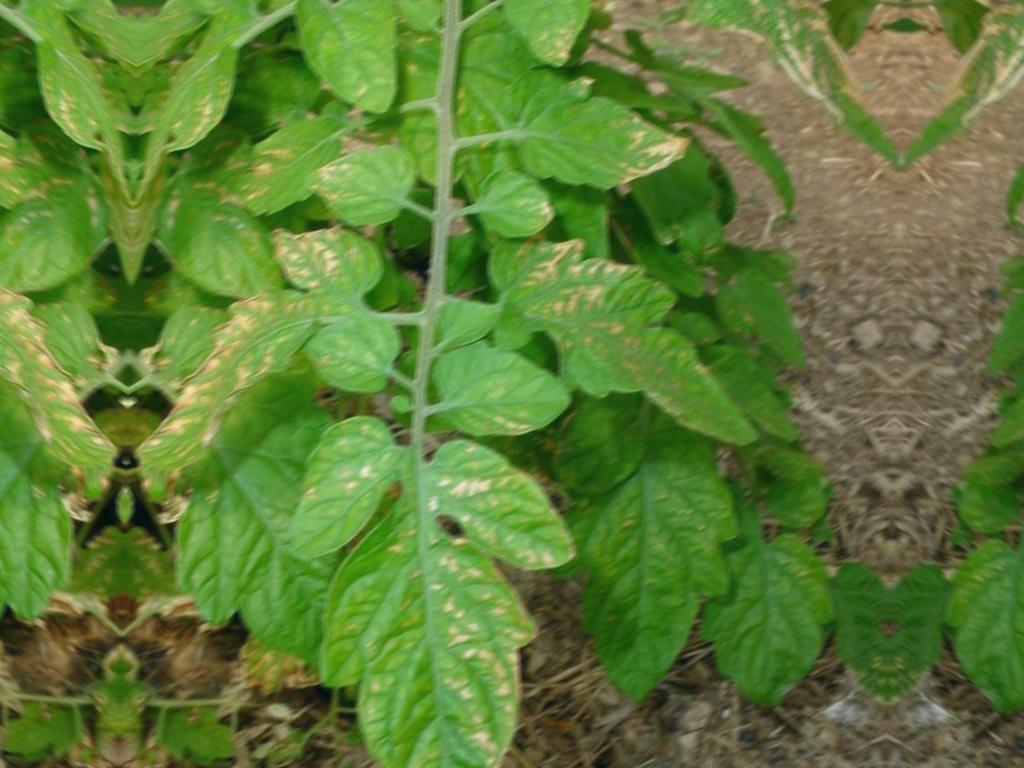Tomato leaf bacterial spot: (140, 195, 411, 481), (303, 483, 563, 768), (445, 236, 766, 448), (494, 40, 721, 221), (411, 425, 596, 582), (257, 0, 415, 125), (449, 0, 632, 101), (422, 339, 573, 456), (292, 411, 405, 561), (308, 135, 444, 230), (462, 160, 563, 245)
